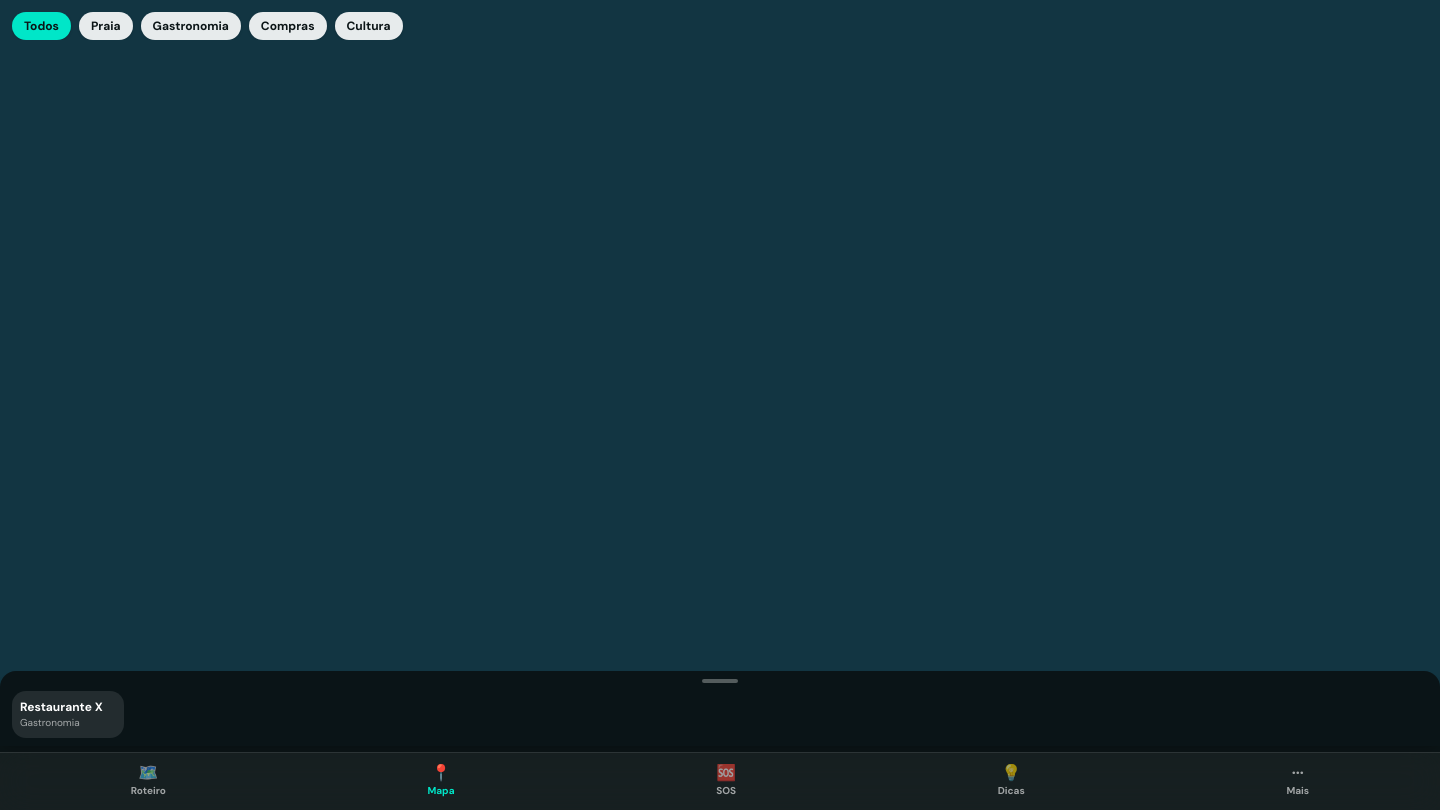
Test: MapaView › adds the suggestion to the itinerary and closes the modal when confirmed
The width and height of the screenshot is (1440, 810).
Expected: the text "Restaurante X" is shown, [20,699,116,715]
What coordinates should you click on to do the following:
click the button "Restaurante X Gastronomia"
I would click on:
 (68, 714)
Its box is [12,691,124,738].
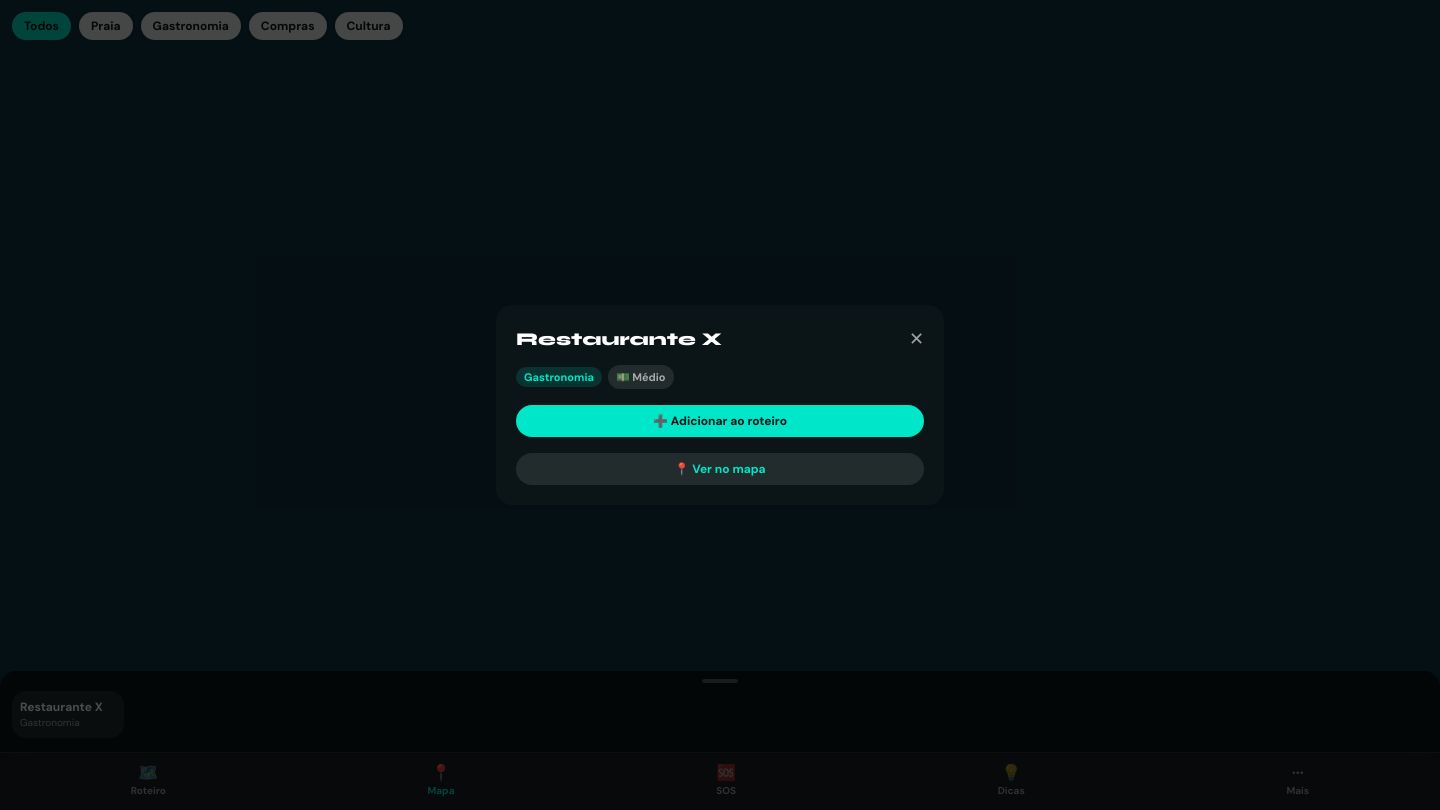
What coordinates should you click on to do the following:
click the button "➕ Adicionar ao roteiro"
I would click on:
 (720, 421)
Its box is [516,405,924,437].
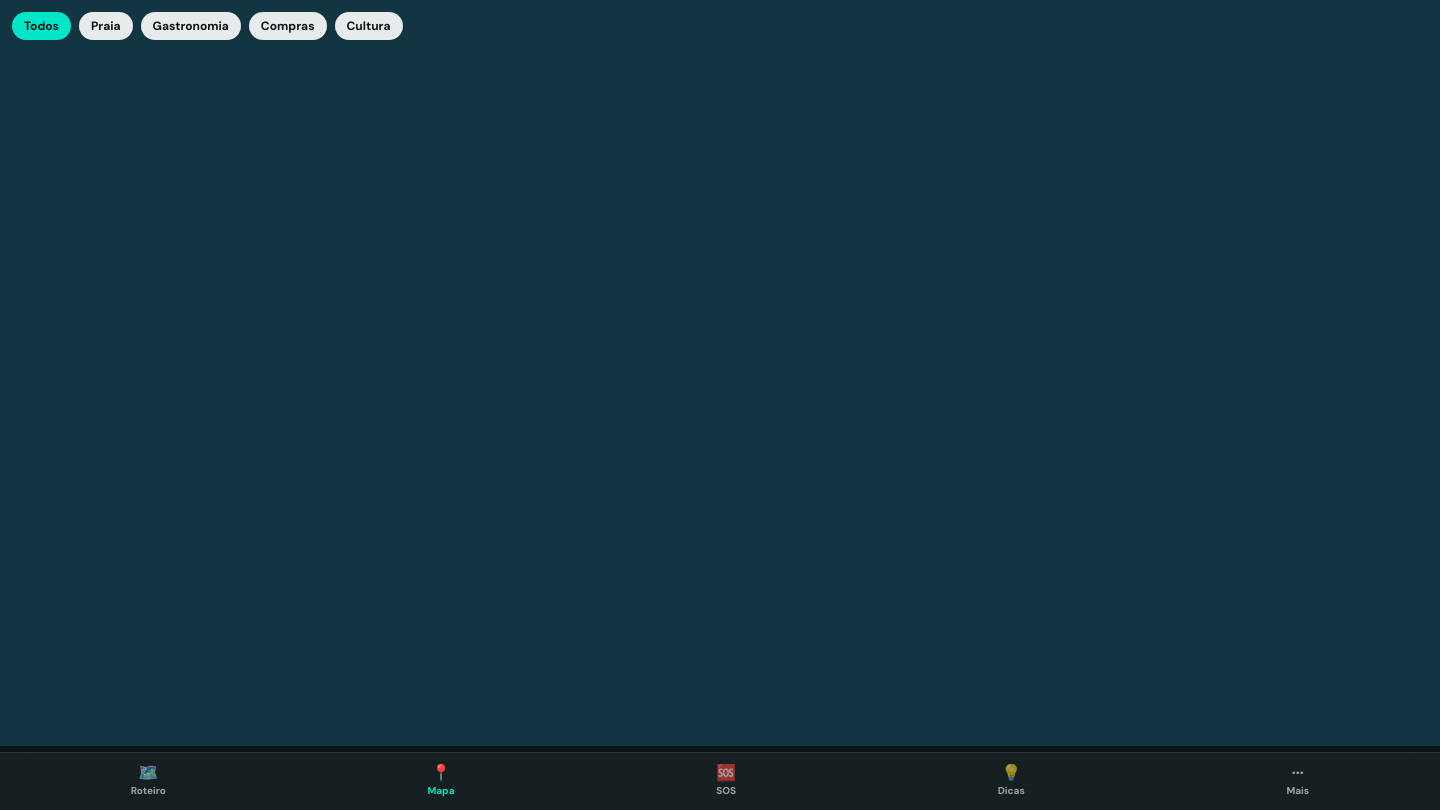
Now the dialog is gone
